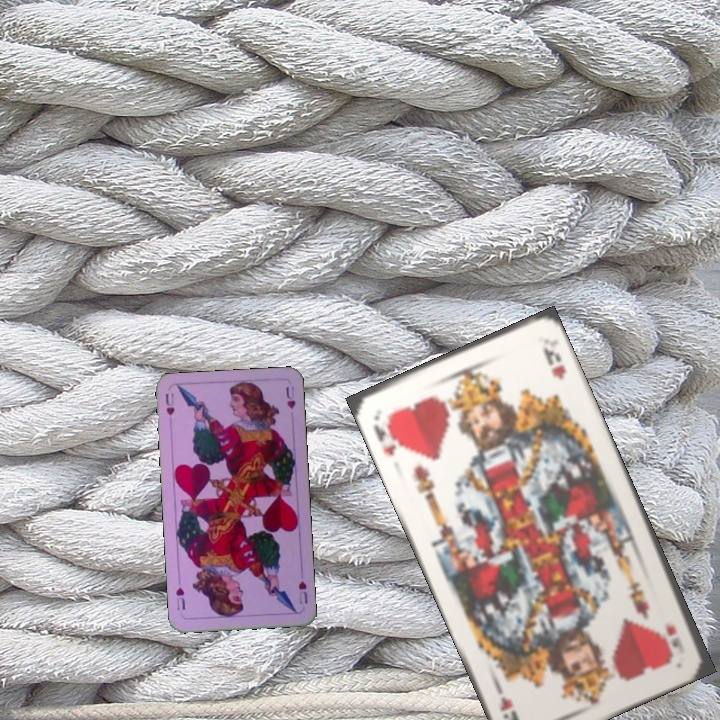HK: (369, 409, 403, 459), (661, 620, 687, 655)
HU: (294, 577, 310, 606), (161, 389, 177, 418)
